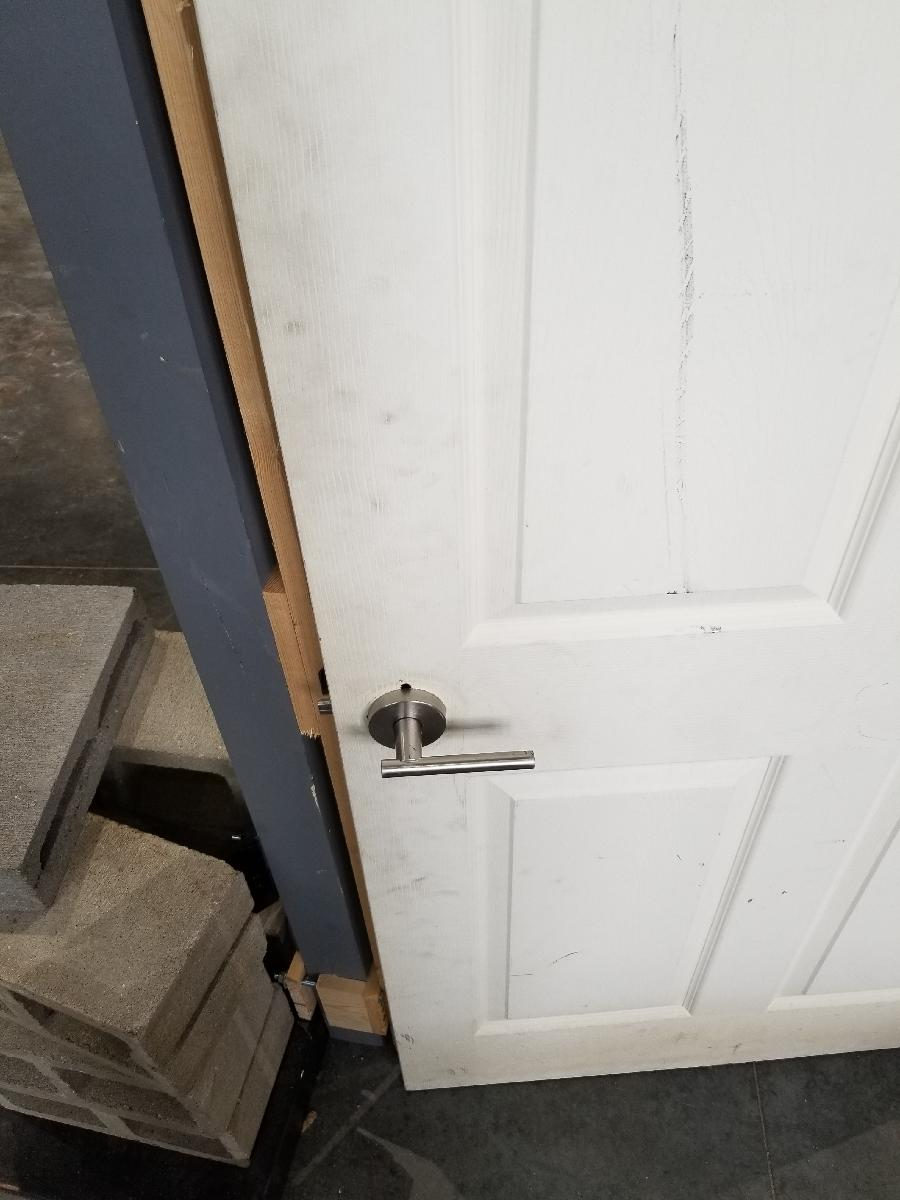doorHandle: (360, 684, 541, 790)
